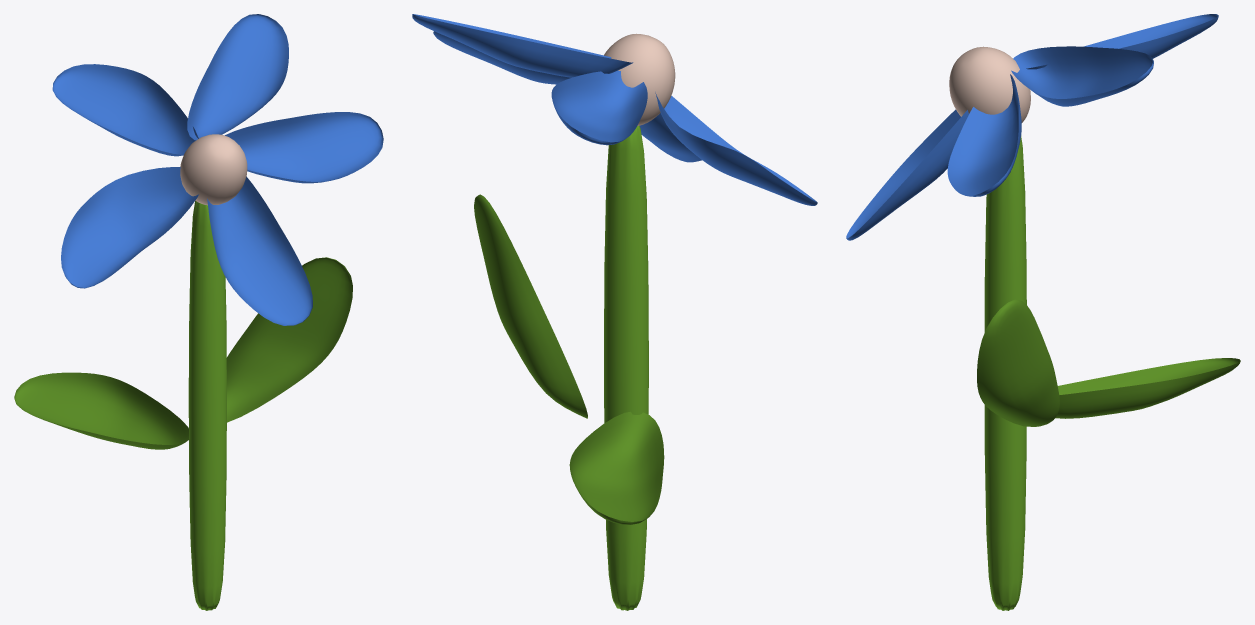
The model's file is blue_flower.fbx.
The picture shows the model from 3 angles, left to right: view 1: azimuth 30°, elevation 25°; view 2: azimuth 150°, elevation 25°; view 3: azimuth 270°, elevation 25°; orthographic projection. The views are drawn at different scales.
Visible parts, largest first — view 1: polySurface57; view 2: polySurface57; view 3: polySurface57.
Boxes of the visible parts, left/top/right/bottom form: polySurface57: left=14, top=14, right=383, bottom=610; polySurface57: left=412, top=14, right=817, bottom=610; polySurface57: left=846, top=14, right=1240, bottom=610.
Size of the model in its own units: 2.24 by 3.48 by 2.06.
